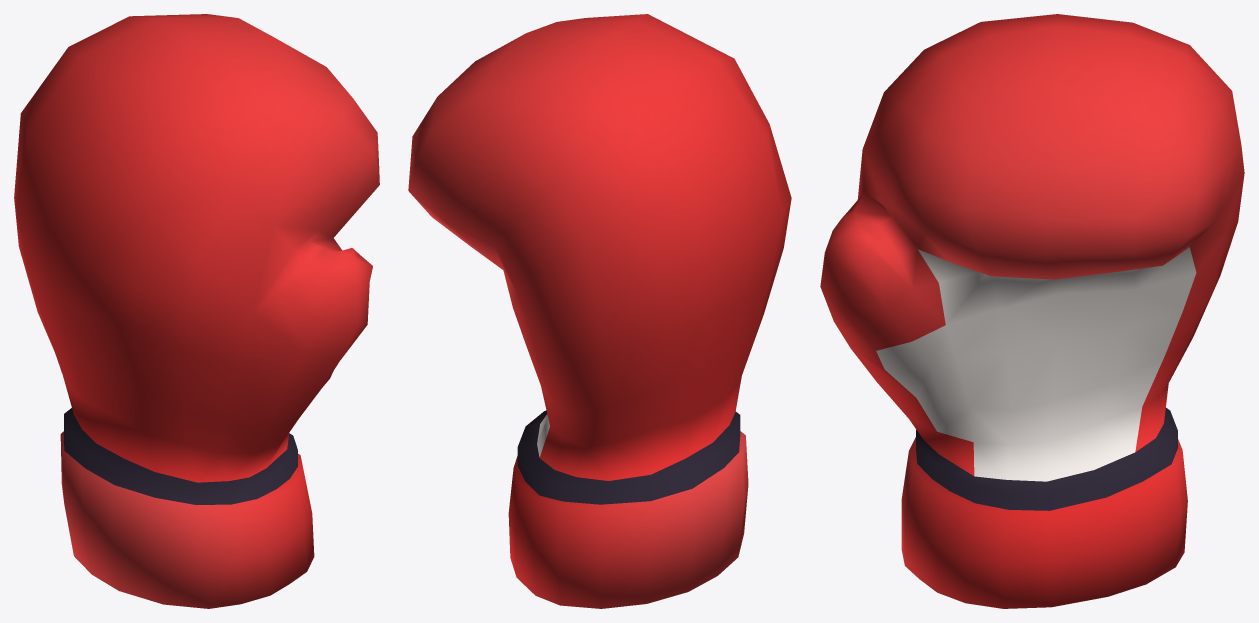
The model's file is Boxing Glove_L.FBX.
The picture shows the model from 3 angles, left to right: view 1: azimuth 30°, elevation 25°; view 2: azimuth 150°, elevation 25°; view 3: azimuth 270°, elevation 25°; orthographic projection. The views are drawn at different scales.
Visible parts, largest first — view 1: Boxing Glove_L; view 2: Boxing Glove_L; view 3: Boxing Glove_L.
Boxes of the visible parts, x1=… form: Boxing Glove_L: x1=14, y1=14, x2=379, y2=608; Boxing Glove_L: x1=408, y1=14, x2=791, y2=608; Boxing Glove_L: x1=820, y1=14, x2=1244, y2=608.
Size of the model in its own units: 15.19 by 24.73 by 17.59.
